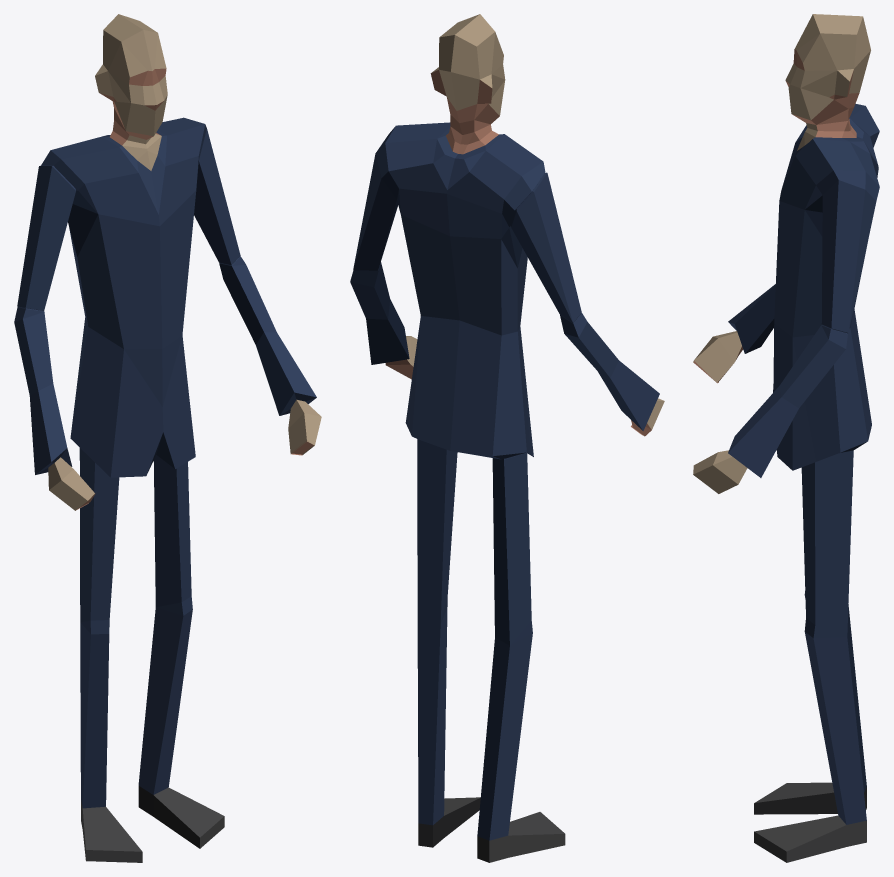
Rendered from character_pieces_suit.FBX.
The picture shows the model from 3 angles, left to right: view 1: azimuth 30°, elevation 25°; view 2: azimuth 150°, elevation 25°; view 3: azimuth 270°, elevation 25°; orthographic projection. The views are drawn at different scales.
Visible parts, largest first — view 1: torso, leg_down_left, leg_down_right, head, arm_down_right, arm_down_left, leg_up_right, leg_up_left, arm_up_right, arm_up_left; view 2: torso, leg_down_right, leg_down_left, head, leg_up_right, leg_up_left, arm_up_right, arm_down_right, arm_down_left, arm_up_left; view 3: torso, leg_down_left, leg_up_left, head, arm_down_left, arm_up_left, arm_down_right, leg_down_right.
Boxes of the visible parts, x1,y1,x2,y2 form: torso: (41, 117, 313, 508); leg_down_left: (138, 607, 224, 848); leg_down_right: (80, 623, 142, 862); head: (95, 14, 167, 144); arm_down_right: (14, 307, 94, 510); arm_down_left: (219, 256, 321, 455); leg_up_right: (79, 448, 119, 634); leg_up_left: (153, 455, 192, 615); arm_up_right: (17, 165, 75, 310); arm_up_left: (194, 129, 240, 265); torso: (375, 122, 642, 459); leg_down_right: (477, 633, 565, 862); leg_down_left: (417, 609, 480, 847); head: (430, 14, 505, 144); leg_up_right: (492, 452, 532, 645); leg_up_left: (417, 439, 457, 624); arm_up_right: (511, 172, 581, 323); arm_down_right: (560, 313, 664, 436); arm_down_left: (350, 262, 417, 379); arm_up_left: (353, 154, 397, 270); torso: (693, 103, 879, 470); leg_down_left: (754, 632, 866, 862); leg_up_left: (801, 450, 853, 638); head: (785, 14, 870, 131); arm_down_left: (693, 325, 847, 493); arm_up_left: (821, 180, 876, 333); arm_down_right: (693, 284, 775, 382); leg_down_right: (754, 595, 866, 814).
Size of the model in its own units: 66.56 by 193 by 39.99.
Materials: 1 (1 with a texture image).
